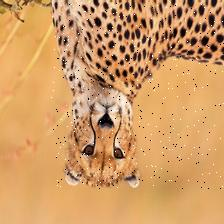Cheetha: (51, 0, 224, 188)
